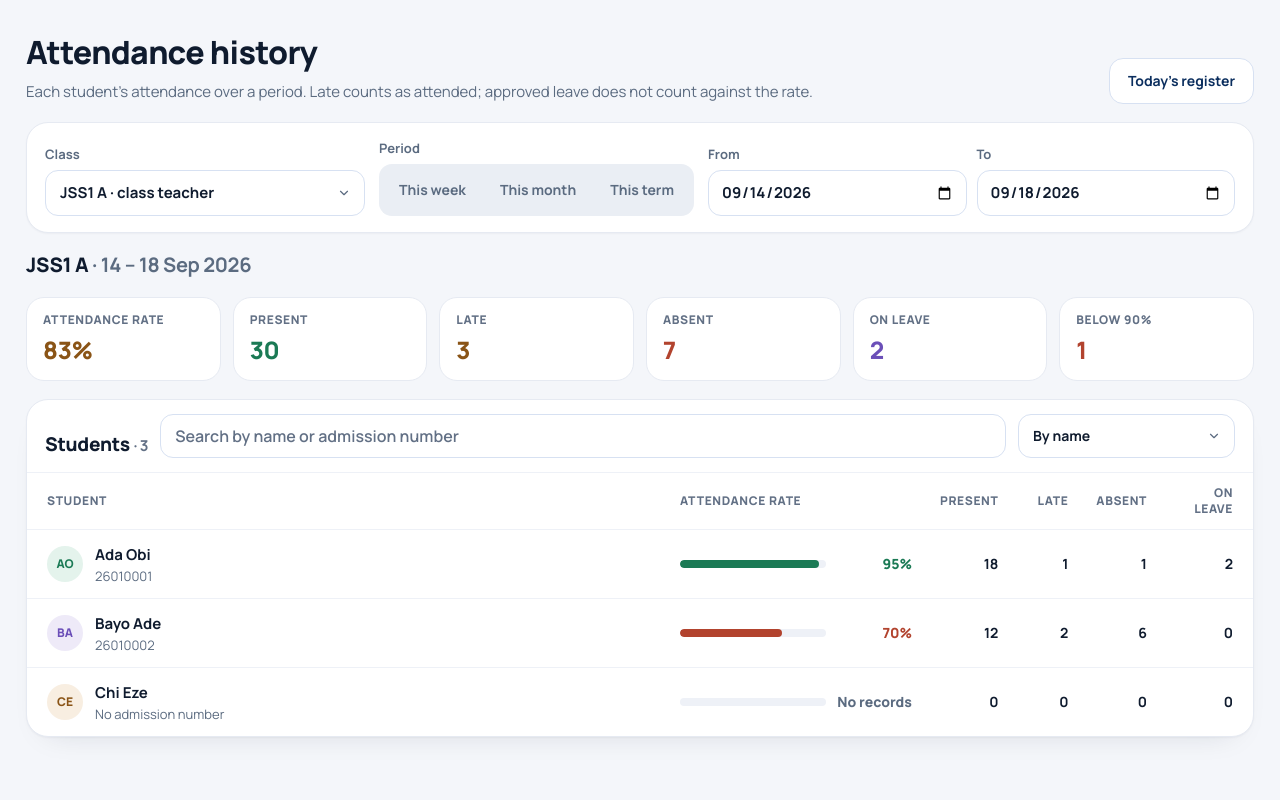
Test: AttendanceHistoryScreen › takes any From and To, and flags a start after the end without loading it
The image size is (1280, 800).
Expected: the table is shown, [27,473,1253,736]
Expected: the heading "JSS1 A · 14 – 18 Sep 2026" is shown, [26,251,251,279]
Type "2026-09-20" into the date field labelled "From" at (837, 193), box [708,170,966,216]
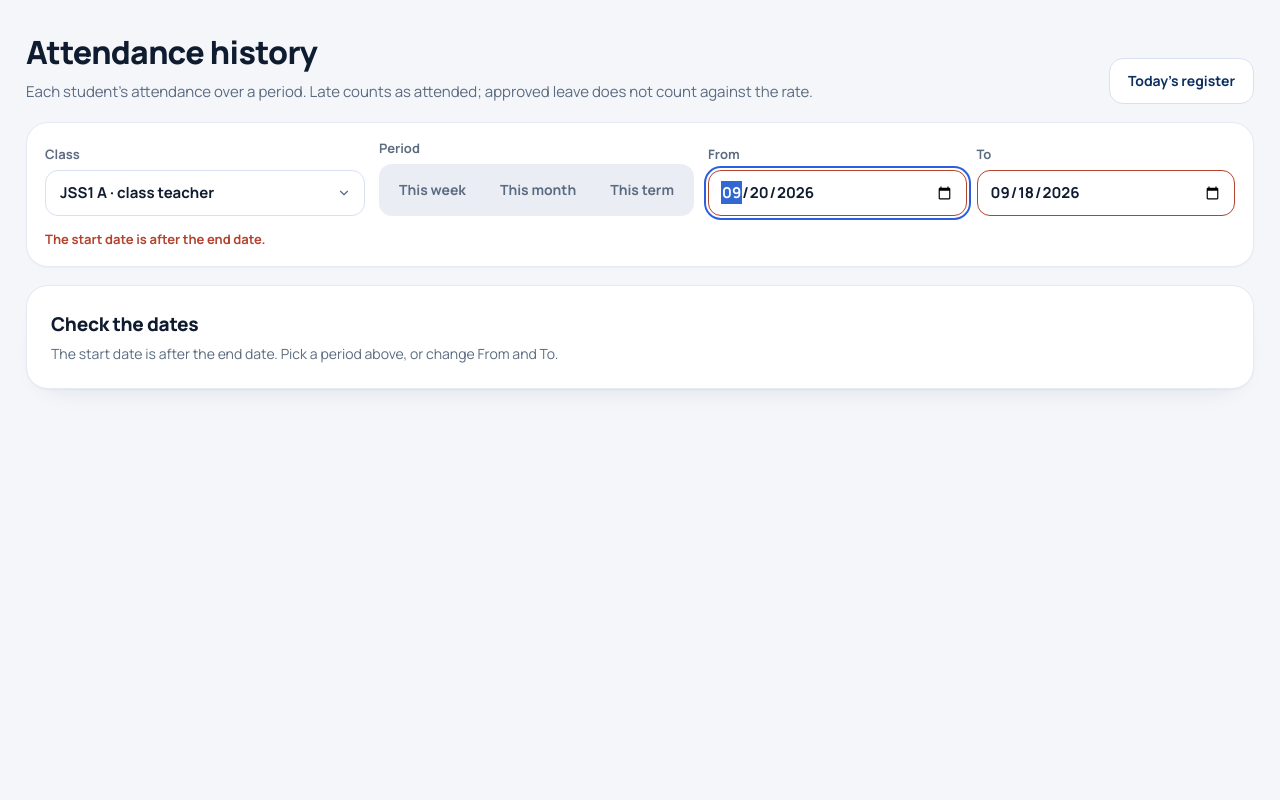
Result: the heading "Check the dates" is shown at [51,310,198,336]
Result: the message reads "The start date is after the end date." at [45,230,266,248]
